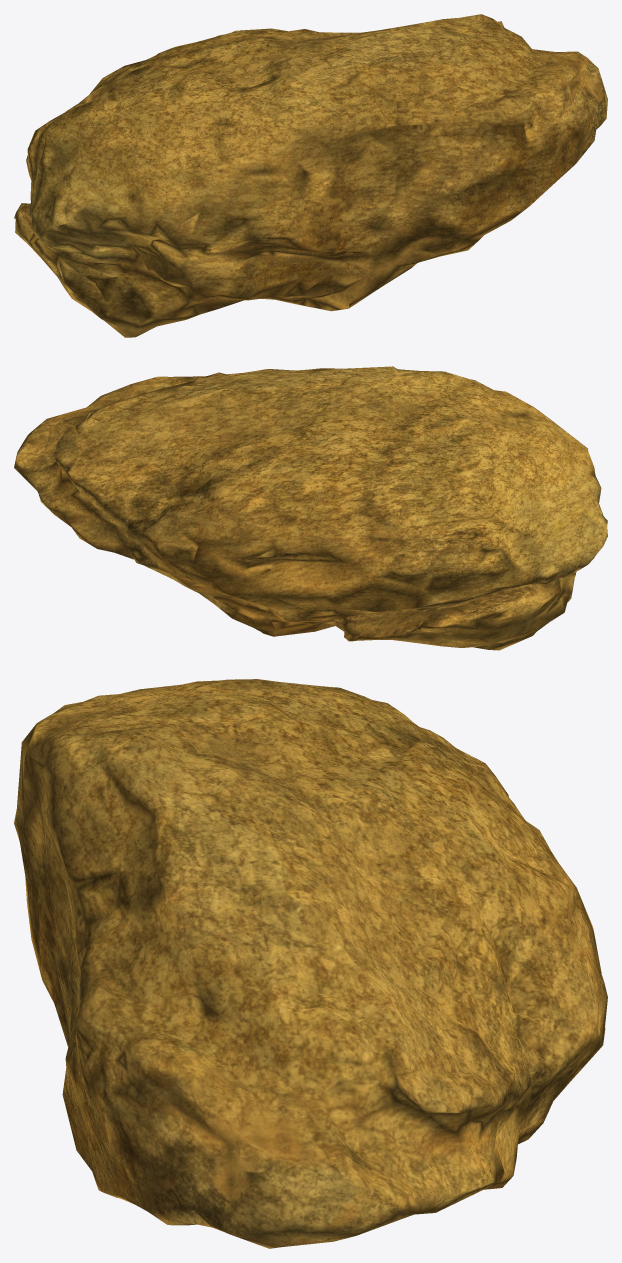
The model's file is node_sulfur_1.glb.
The picture shows the model from 3 angles, top to bottom: view 1: azimuth 30°, elevation 25°; view 2: azimuth 150°, elevation 25°; view 3: azimuth 270°, elevation 25°; orthographic projection. The views are drawn at different scales.
Visible parts, largest first — view 1: namaqualand_boulder_05; view 2: namaqualand_boulder_05; view 3: namaqualand_boulder_05.
Part boxes in pixels (<box>): namaqualand_boulder_05: <box>14,14,607,337</box>; namaqualand_boulder_05: <box>14,366,607,650</box>; namaqualand_boulder_05: <box>14,679,607,1248</box>.
Size of the model in its own units: 2.05 by 0.8023 by 1.12.
1 material, 1 textured.
